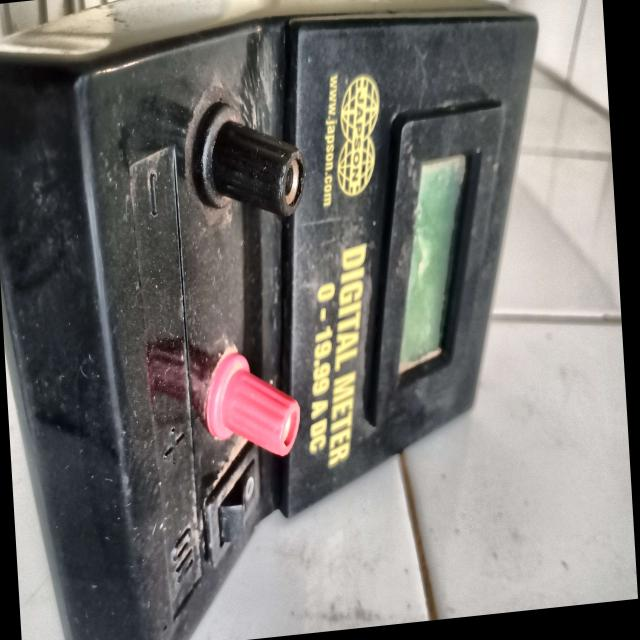Digital Ammeter: (0, 0, 555, 640)
